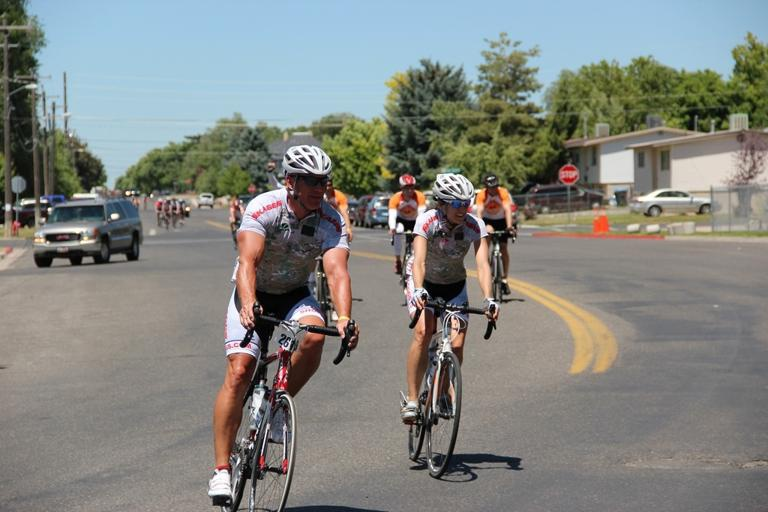non-vehicle: (216, 302, 357, 512), (399, 291, 497, 478), (483, 229, 515, 302), (308, 253, 336, 326), (388, 229, 416, 296), (228, 212, 242, 249)
